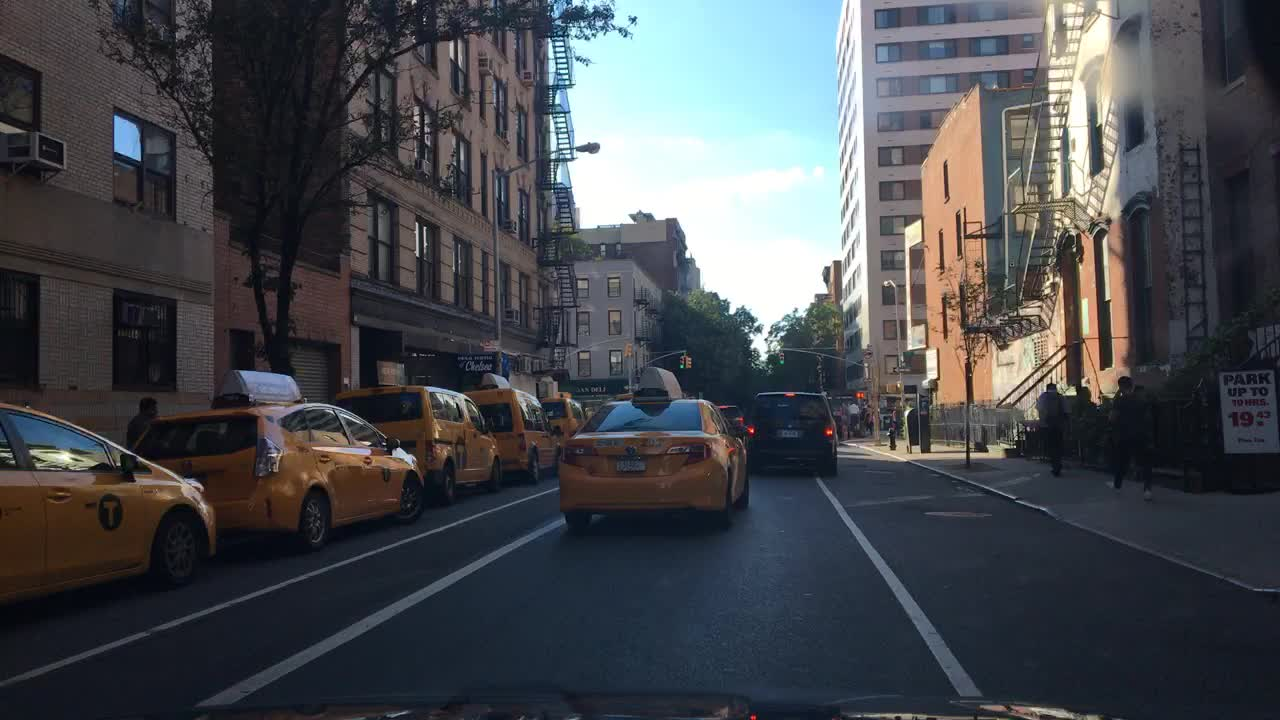car: (130, 368, 427, 550), (0, 401, 218, 607), (556, 365, 751, 531), (331, 383, 502, 508), (461, 371, 562, 485), (741, 390, 839, 477), (538, 390, 586, 452), (713, 402, 747, 439), (580, 398, 600, 420)
person: (1103, 375, 1160, 501), (1034, 380, 1072, 479), (125, 395, 160, 452), (833, 409, 843, 442), (890, 406, 901, 435), (865, 404, 873, 436), (849, 402, 858, 428), (858, 408, 866, 437)
traffic light: (884, 381, 900, 395), (624, 343, 633, 358), (678, 355, 685, 370), (856, 389, 865, 400), (686, 355, 692, 370), (778, 350, 784, 365)
traffic sign: (1213, 365, 1279, 455), (860, 347, 873, 361), (892, 365, 910, 372), (862, 377, 872, 383)
